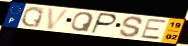E: (140, 19, 168, 41)
P: (89, 12, 119, 35)
Q: (20, 6, 45, 29), (70, 12, 96, 33)
S: (118, 16, 145, 39)
V: (46, 7, 72, 30)
